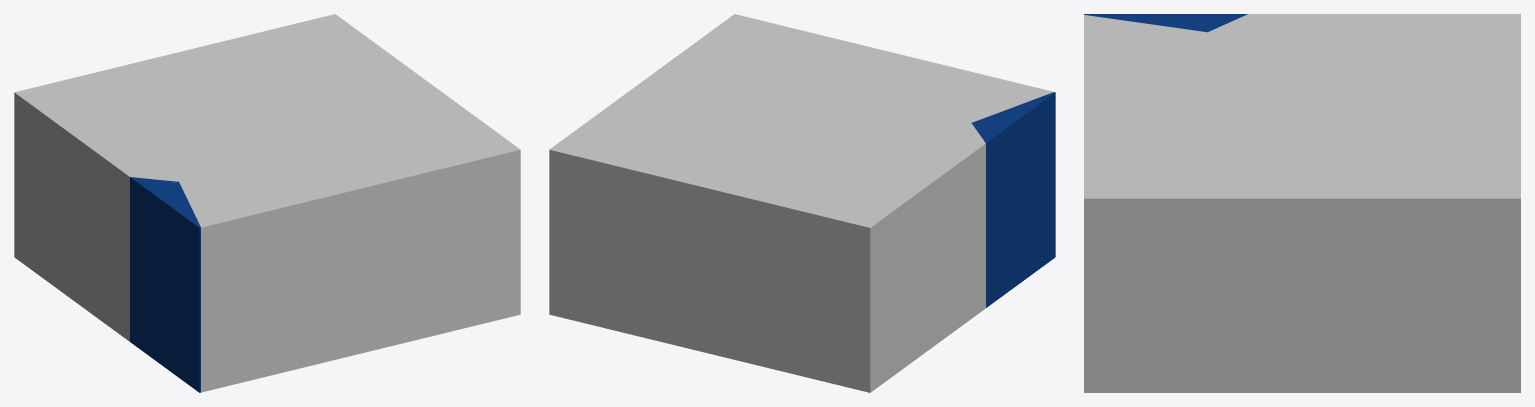
File: glace brisé.obj
3 views of the same model, side by side, from view 1: azimuth 30°, elevation 25°; view 2: azimuth 150°, elevation 25°; view 3: azimuth 270°, elevation 25° (orthographic). The views are drawn at different scales.
Parts seen in each view (by area): view 1: Mesh010, Mesh003, Mesh001, Mesh011, Mesh004, Mesh006, Plane001, Mesh012, Mesh008, Mesh007, Mesh002, Mesh005 (+1 smaller); view 2: Mesh001, Mesh009, Mesh011, Mesh004, Mesh012, Mesh010, Mesh008, Mesh007, Mesh006, Mesh002, Mesh005, Plane001 (+1 smaller); view 3: Mesh012, Mesh006, Mesh001, Mesh010, Mesh008, Mesh007, Mesh002, Mesh011, Mesh005, Plane001, Mesh009, Mesh003 (+1 smaller).
Boxes of the visible parts, bbox=[...] form: Mesh010: bbox=[179, 146, 351, 392]; Mesh003: bbox=[302, 156, 450, 361]; Mesh001: bbox=[14, 53, 199, 290]; Mesh011: bbox=[60, 126, 178, 341]; Mesh004: bbox=[130, 177, 200, 392]; Mesh006: bbox=[390, 82, 520, 322]; Plane001: bbox=[352, 119, 485, 331]; Mesh012: bbox=[295, 15, 428, 119]; Mesh008: bbox=[157, 78, 294, 146]; Mesh007: bbox=[254, 80, 389, 156]; Mesh002: bbox=[200, 14, 336, 80]; Mesh005: bbox=[157, 136, 253, 186]; Mesh001: bbox=[709, 154, 916, 392]; Mesh009: bbox=[549, 149, 748, 353]; Mesh011: bbox=[889, 123, 985, 358]; Mesh004: bbox=[971, 92, 1055, 307]; Mesh012: bbox=[551, 77, 737, 148]; Mesh010: bbox=[833, 61, 1053, 122]; Mesh008: bbox=[706, 113, 888, 166]; Mesh007: bbox=[706, 72, 860, 130]; Mesh006: bbox=[643, 14, 769, 81]; Mesh002: bbox=[550, 131, 748, 166]; Mesh005: bbox=[861, 102, 970, 153]; Plane001: bbox=[738, 22, 832, 76]; Mesh012: bbox=[1234, 142, 1517, 392]; Mesh006: bbox=[1084, 160, 1300, 392]; Mesh001: bbox=[1331, 14, 1520, 106]; Mesh010: bbox=[1084, 15, 1249, 121]; Mesh008: bbox=[1250, 50, 1443, 141]; Mesh007: bbox=[1167, 85, 1382, 159]; Mesh002: bbox=[1384, 102, 1519, 392]; Mesh011: bbox=[1208, 14, 1412, 49]; Mesh005: bbox=[1167, 32, 1330, 85]; Plane001: bbox=[1084, 122, 1233, 178]; Mesh009: bbox=[1445, 102, 1520, 392]; Mesh003: bbox=[1084, 86, 1166, 157].
Bounding box in the file's own units: 1 × 0.491 × 1.
